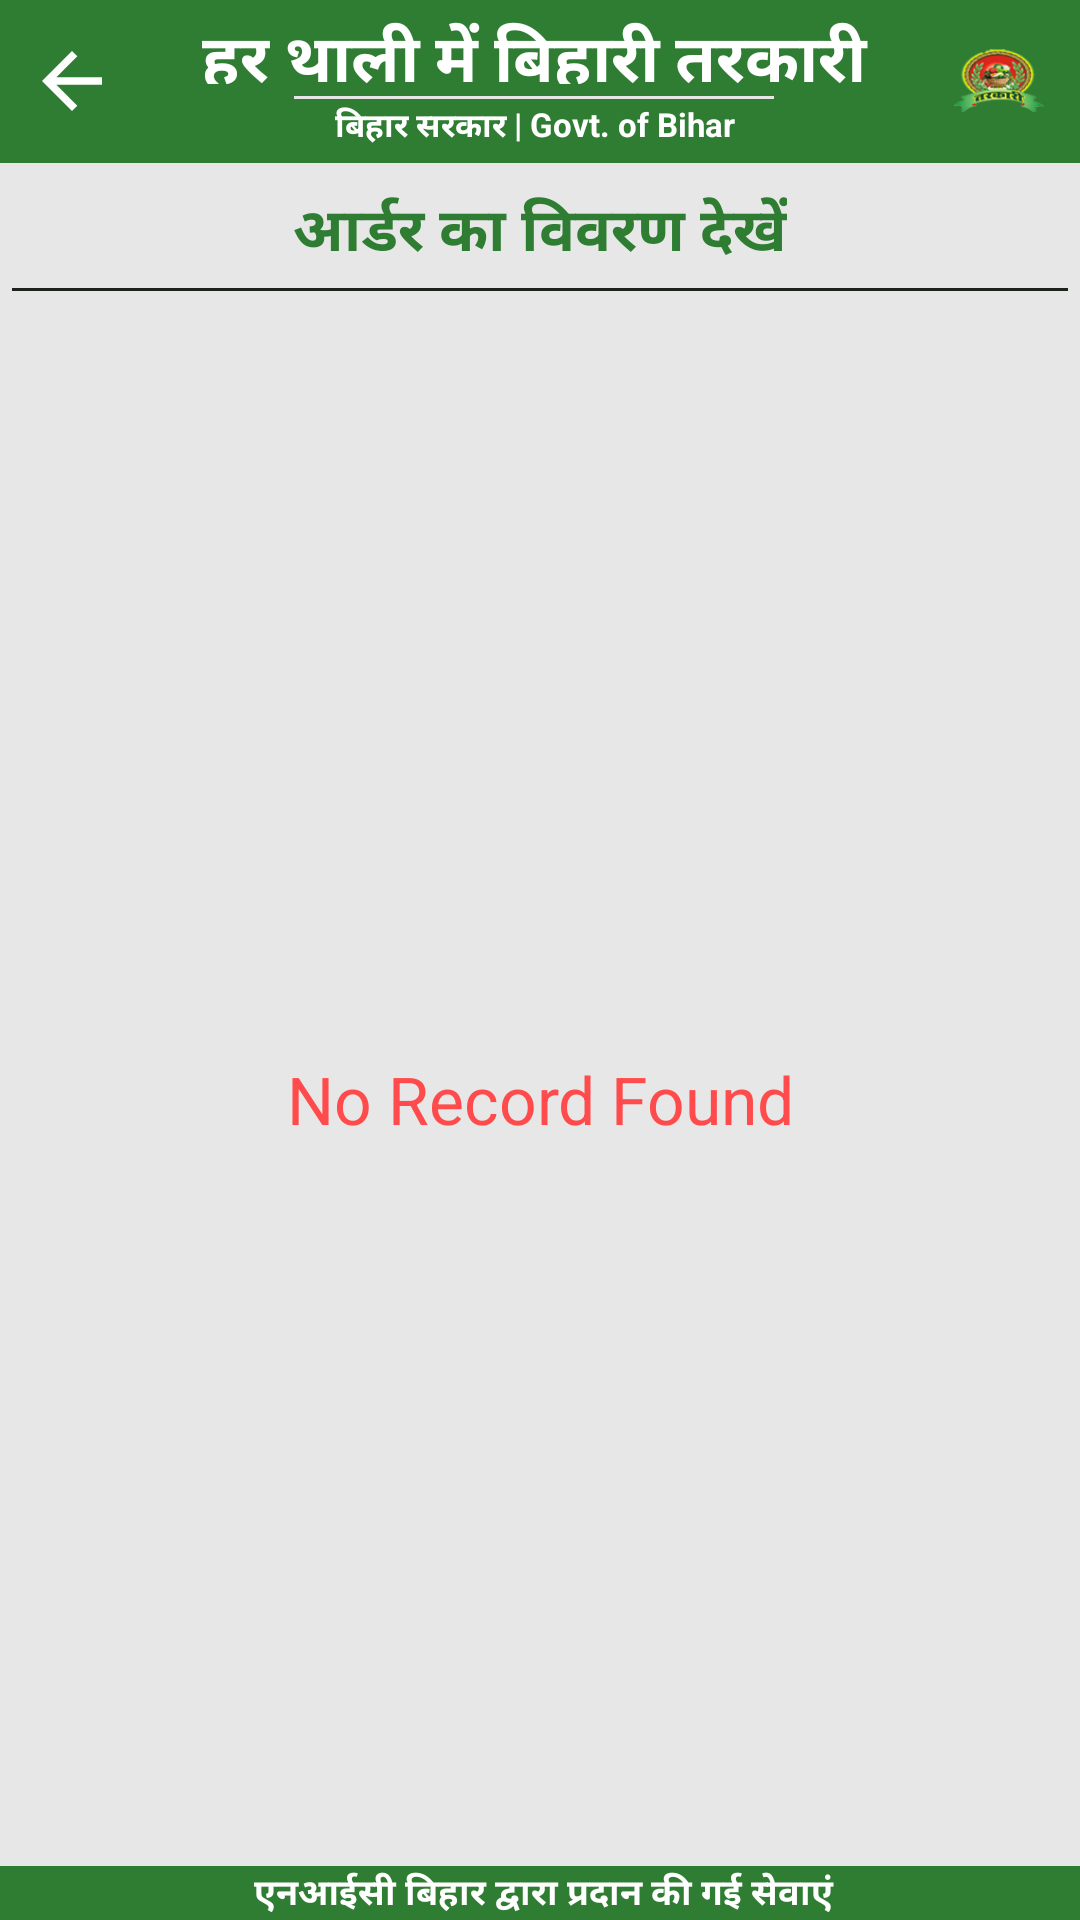

Locate icon controls on the screen. Image size 1080 × 1920, boxes as (x1,y1,x2,y2).
arrow back: (42,51,102,111)
